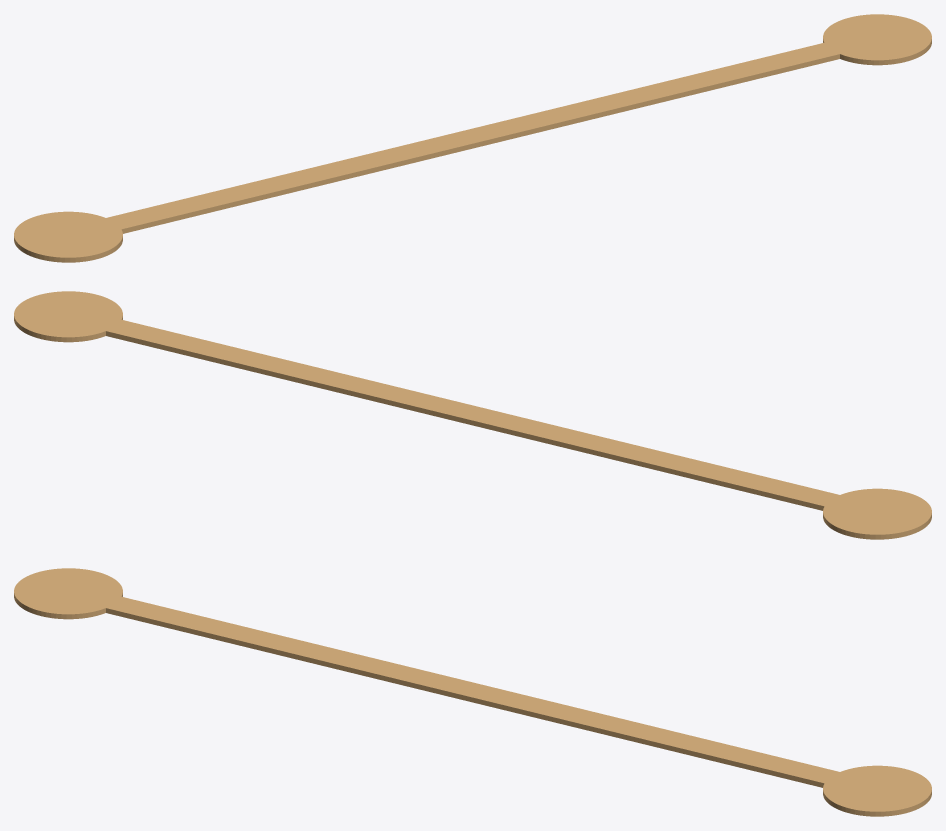
Rendered from board.glb.
3 renders of one model, top to bottom at view 1: azimuth 30°, elevation 25°; view 2: azimuth 150°, elevation 25°; view 3: azimuth 330°, elevation 25°, orthographic.
Parts seen in each view (by area): view 1: Unified_Net_1_Island_0; view 2: Unified_Net_1_Island_0; view 3: Unified_Net_1_Island_0.
Boxes of the visible parts, left/top/right/bottom form: Unified_Net_1_Island_0: left=14, top=14, right=931, bottom=262; Unified_Net_1_Island_0: left=14, top=291, right=931, bottom=539; Unified_Net_1_Island_0: left=14, top=568, right=931, bottom=816.
Bounding box in the file's own units: 0.0067 × 3.5e-05 × 0.0007.
